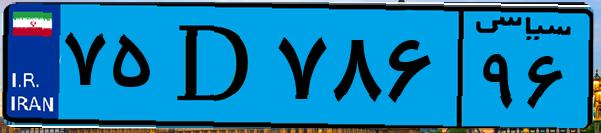5: (110, 28, 158, 98)
6: (385, 28, 445, 110), (525, 38, 570, 115)
7: (270, 28, 330, 110), (57, 26, 110, 100)
8: (330, 28, 385, 110)
9: (475, 38, 525, 113)
D: (158, 12, 270, 120)
